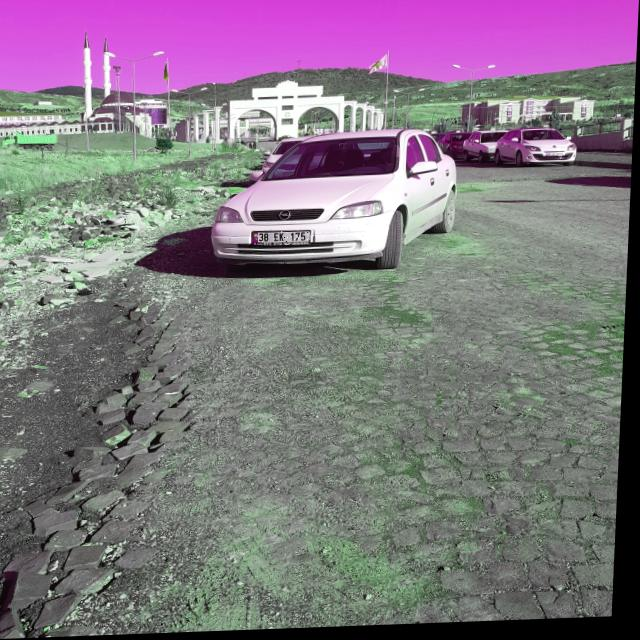license_plate: (253, 232, 313, 247)
